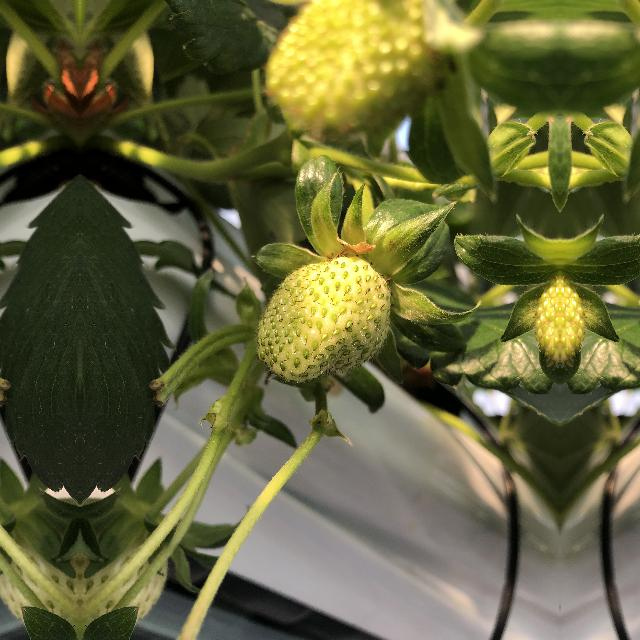Health_25: (255, 254, 395, 384)
